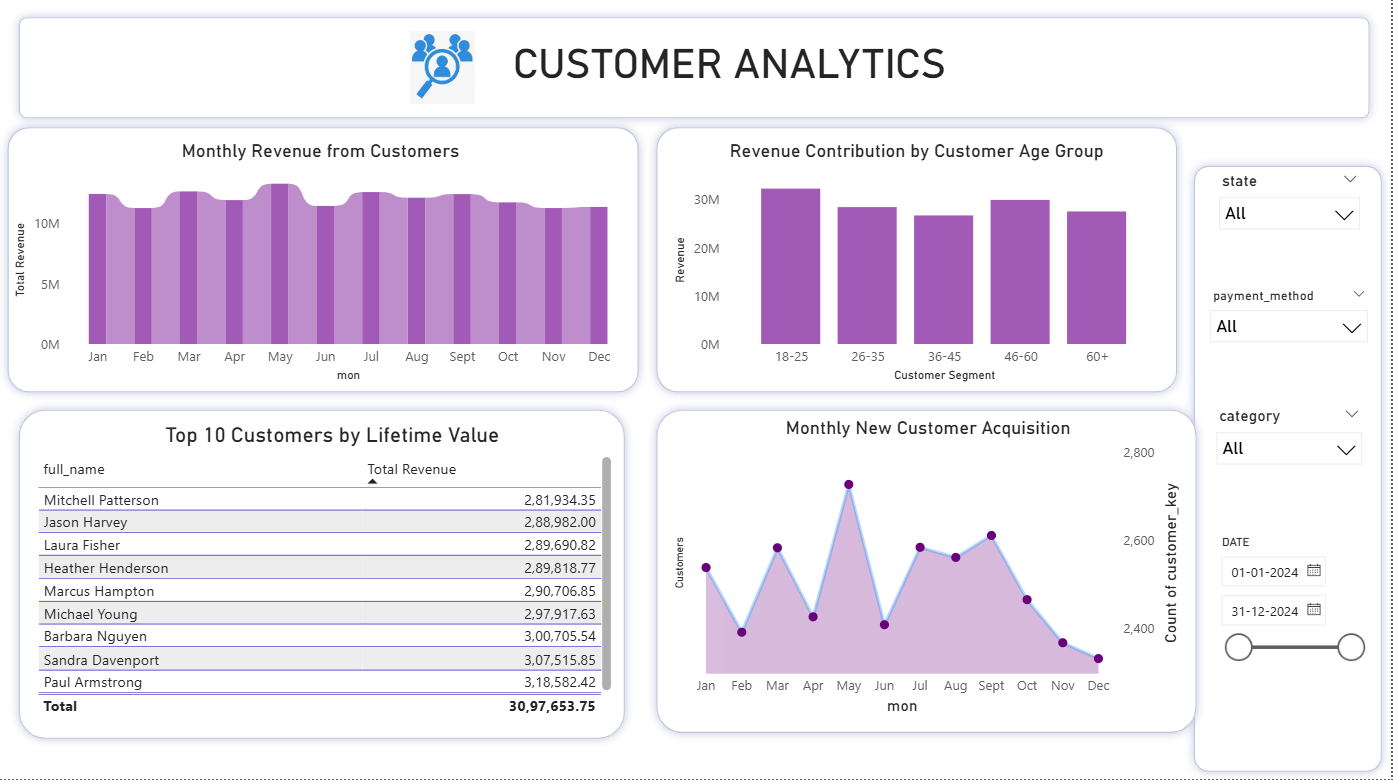

Layout of this report page (visuals, bound fields, positions):
{"tool":"powerbi","page":{"name":"CUSTOMER ANALYTICS","canvas":[1280,720],"ordinal":2},"visuals":[{"type":"textbox","box":[10,0,454.3,65.7],"z":0},{"type":"clusteredColumnChart","title":"Customer Segmentation","fields":{"Y":["warehouse fact_sales.Total Revenue"],"Category":["warehouse dim_customers.customer_segment"]},"box":[10,172.9,480,374.3],"z":1000},{"type":"areaChart","title":"Customer Acquisition Trend","fields":{"Category":["warehouse dim_date.month_name"],"Y":["warehouse dim_customers.customer_id"]},"box":[441.4,65.7,455.7,227.1],"z":2000},{"type":"pivotTable","title":"Top 10 Customers by Lifetime Value","fields":{"Rows":["warehouse dim_customers.full_name"],"Values":["warehouse fact_sales.Total Revenue"]},"box":[907.1,48.6,372.9,294.3],"z":3000},{"type":"ribbonChart","title":"Customer Purchase Patterns","fields":{"Category":["warehouse dim_date.month"],"Y":["warehouse fact_sales.Total Revenue"],"Series":["warehouse dim_customers.customer_segment"]},"box":[10,557,480,163],"z":4000},{"type":"slicer","title":"State","fields":{"Values":["warehouse dim_customers.state"]},"box":[814.3,397.1,167.1,278.6],"z":5000},{"type":"slicer","title":"Product Category","fields":{"Values":["warehouse dim_products.category"]},"box":[1037.1,64.3,214.3,258.6],"z":6000},{"type":"slicer","title":"Payment Method","fields":{"Values":["warehouse dim_payment_method.payment_method_name"]},"box":[1037,323,214,236],"z":7000},{"type":"slicer","title":"Date Range","fields":{"Values":["warehouse dim_date.full_date"]},"box":[630,558.6,372.9,141.4],"z":8000}]}

Visuals, with their boxes in screenshot pixels (x1, y1, x2, y2), scaled from the page's 1280x720 canvas onto the 1394x780 screenshot:
textbox: [left=11, top=0, right=506, bottom=71]
"Customer Segmentation" clusteredColumnChart: [left=11, top=187, right=534, bottom=593]
"Customer Acquisition Trend" areaChart: [left=481, top=71, right=977, bottom=317]
"Top 10 Customers by Lifetime Value" pivotTable: [left=988, top=53, right=1393, bottom=371]
"Customer Purchase Patterns" ribbonChart: [left=11, top=603, right=534, bottom=779]
"State" slicer: [left=887, top=430, right=1069, bottom=732]
"Product Category" slicer: [left=1129, top=70, right=1363, bottom=350]
"Payment Method" slicer: [left=1129, top=350, right=1362, bottom=606]
"Date Range" slicer: [left=686, top=605, right=1092, bottom=758]
